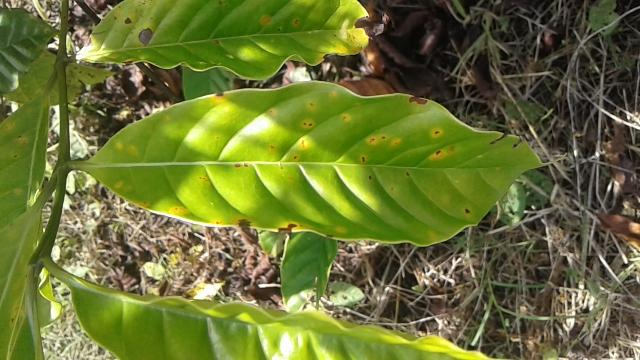rust_level_2: (81, 80, 572, 250)
